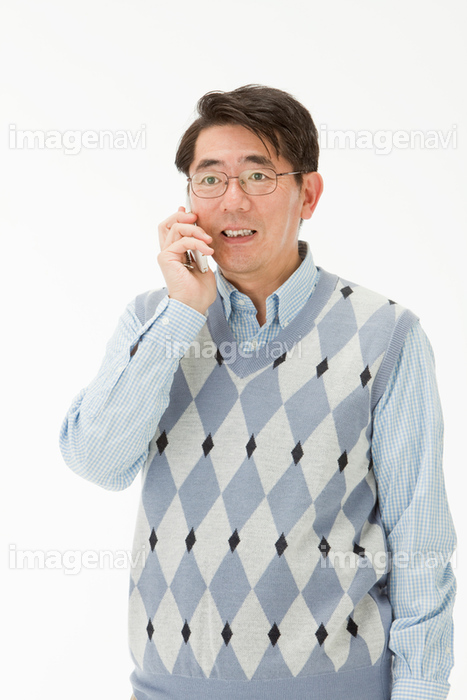phone: (158, 204, 221, 288)
talk: (154, 149, 303, 297)
